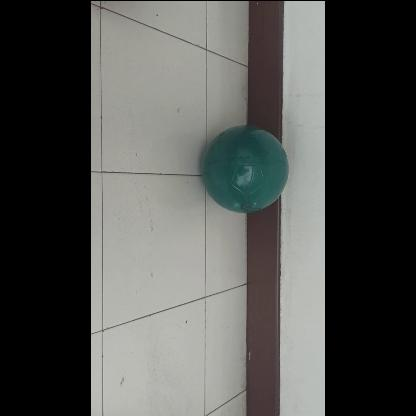green_ball: (200, 124, 288, 214)
